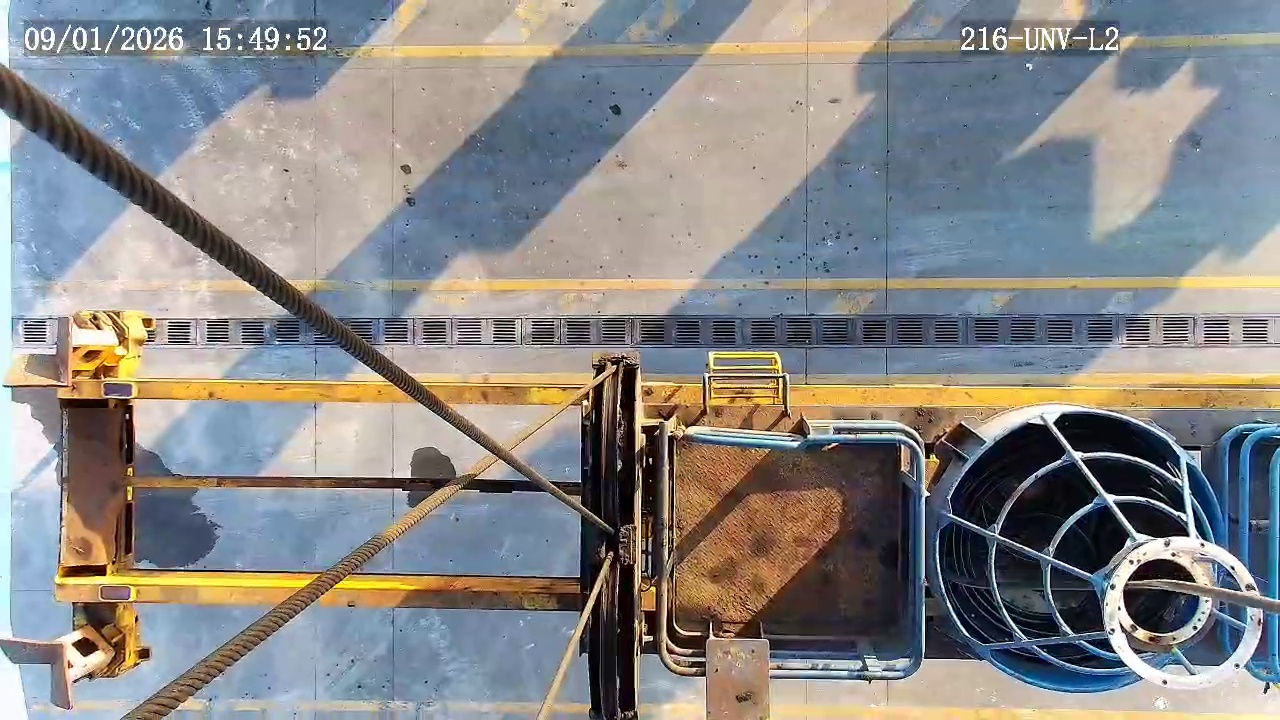left: (1105, 536, 1264, 687)
